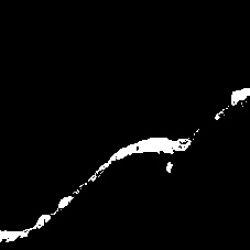crack: (0, 88, 249, 241)
pinhole: (163, 161, 178, 175)
